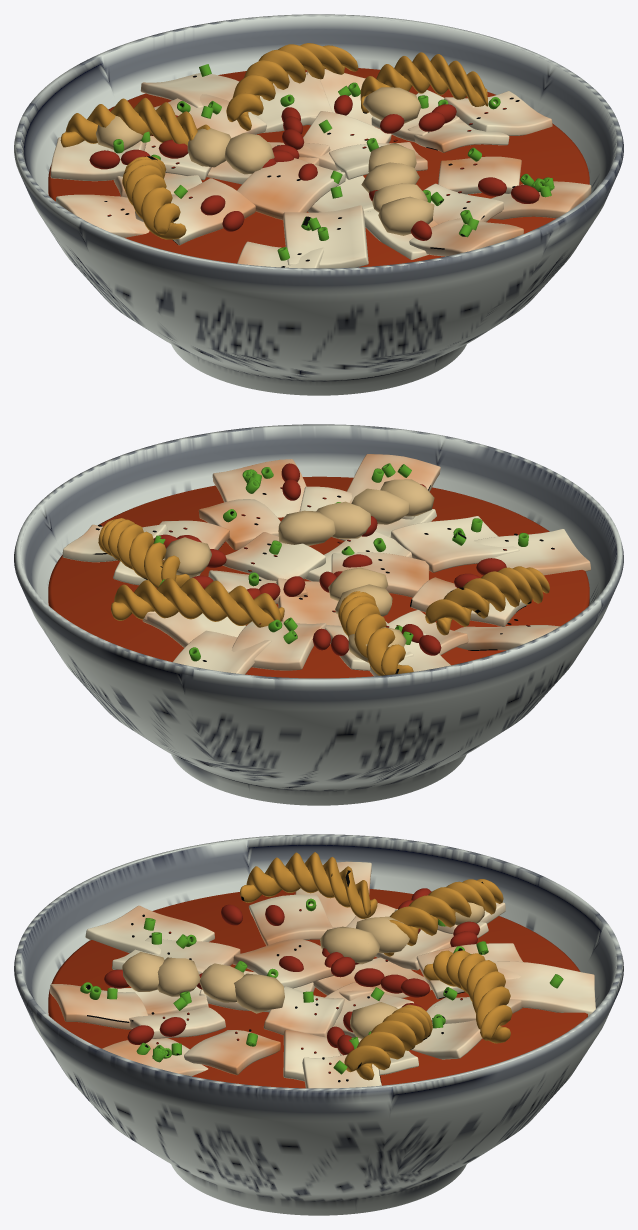
Rendered from xian-dish-original.glb.
3 renders of one model, top to bottom at view 1: azimuth 30°, elevation 25°; view 2: azimuth 150°, elevation 25°; view 3: azimuth 270°, elevation 25°, orthographic.
Visible parts, largest first — view 1: xian-dish; view 2: xian-dish; view 3: xian-dish.
Part boxes in pixels (x1,y1,x2,y2): xian-dish: (14,14,623,395); xian-dish: (14,424,623,805); xian-dish: (14,834,623,1215).
Bounding box in the file's own units: 0.178 × 0.0699 × 0.178.
8 materials, 8 textured.
